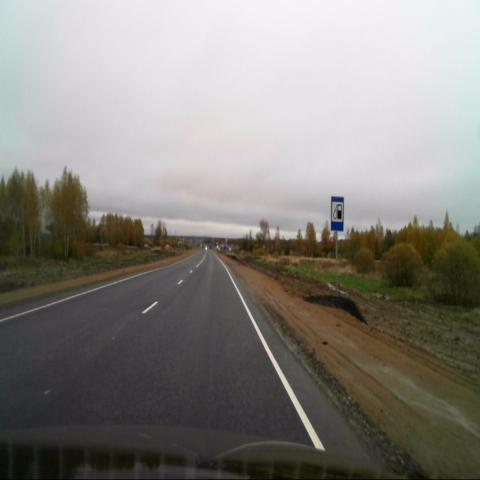7_3: (331, 196, 343, 231)
